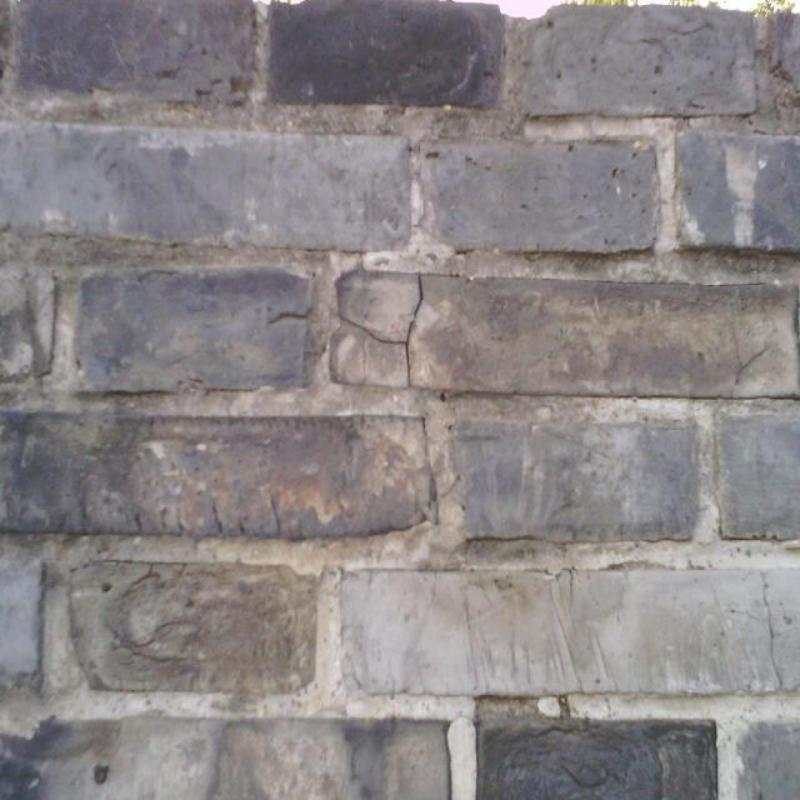pothole: (340, 317, 414, 386), (761, 570, 784, 688), (732, 325, 773, 385), (269, 312, 307, 324), (414, 275, 424, 319)
